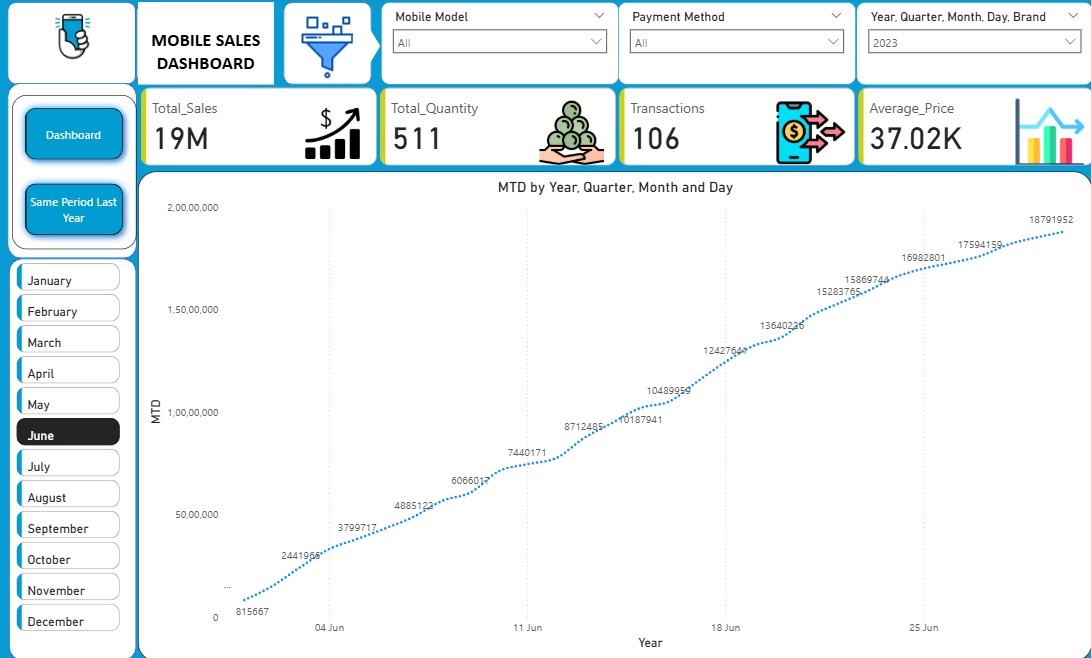

The page's visual inventory and layout, read from the dashboard file:
{"tool":"powerbi","page":{"name":"MTD Report","canvas":[1282,772],"ordinal":1},"visuals":[{"type":"shape","box":[13,6.5,149.6,96],"z":0},{"type":"image","box":[29.3,6.5,117.1,84.6],"z":1000},{"type":"shape","box":[12.1,102,150.4,203.9],"z":2000},{"type":"cardVisual","fields":{"Data":["Sales_Data.Total_Sales","Sales_Data.Total_Quantity","Sales_Data.Transactions","Sales_Data.Average_Price"]},"box":[162.5,102,1119.9,102],"z":3000},{"type":"slicer","fields":{"Values":["Sales_Data.Mobile Model"]},"box":[445.7,6.5,276.5,96],"z":4000},{"type":"slicer","fields":{"Values":["Sales_Data.Payment Method"]},"box":[722.2,6.5,276.5,96],"z":5000},{"type":"slicer","fields":{"Values":["Custom_Calendar.Date.Variation.Date Hierarchy.Year","Custom_Calendar.Date.Variation.Date Hierarchy.Quarter","Custom_Calendar.Date.Variation.Date Hierarchy.Month","Custom_Calendar.Date.Variation.Date Hierarchy.Day","Sales_Data.Brand"]},"box":[998.9,6.9,274.8,96.8],"z":6000},{"type":"shape","box":[333.4,6.5,102.5,96],"z":7000},{"type":"image","box":[333.4,17.9,102.5,84.6],"z":8000},{"type":"shape","box":[413.1,30.9,32.5,53.7],"z":9000},{"type":"shape","box":[162.7,6.5,159.4,96],"z":10000},{"type":"textbox","box":[164.3,6.5,157.8,96],"z":11000},{"type":"lineChart","fields":{"Y":["Sales_Data.MTD"],"Category":["Custom_Calendar.Date.Variation.Date Hierarchy.Year","Custom_Calendar.Date.Variation.Date Hierarchy.Quarter","Custom_Calendar.Date.Variation.Date Hierarchy.Month","Custom_Calendar.Date.Variation.Date Hierarchy.Day"]},"box":[163.6,203.6,1109.1,569.1],"z":12000},{"type":"shape","box":[14,304.6,148.2,467.4],"z":13000},{"type":"advancedSlicerVisual","fields":{"Values":["Custom_Calendar.Date.Variation.Date Hierarchy.Month"]},"box":[17.4,305.2,130.8,450],"z":14000},{"type":"pageNavigator","box":[17.4,115.1,144.8,179.6],"z":14001}]}

Visuals, with their boxes in screenshot pixels (x1, y1, x2, y2), scaled from the page's 1282x772 canvas onto the 1091x658 screenshot:
shape: select_region(11, 6, 138, 87)
image: select_region(25, 6, 125, 78)
shape: select_region(10, 87, 138, 261)
cardVisual - Sales_Data.Total_Sales x Sales_Data.Total_Quantity: select_region(138, 87, 1090, 174)
slicer - Sales_Data.Mobile Model: select_region(379, 6, 615, 87)
slicer - Sales_Data.Payment Method: select_region(615, 6, 850, 87)
slicer - Custom_Calendar.Date.Variation.Date Hierarchy.Year x Custom_Calendar.Date.Variation.Date Hierarchy.Quarter: select_region(850, 6, 1084, 88)
shape: select_region(284, 6, 371, 87)
image: select_region(284, 15, 371, 87)
shape: select_region(352, 26, 379, 72)
shape: select_region(138, 6, 274, 87)
textbox: select_region(140, 6, 274, 87)
lineChart - Sales_Data.MTD x Custom_Calendar.Date.Variation.Date Hierarchy.Year: select_region(139, 174, 1083, 657)
shape: select_region(12, 260, 138, 657)
advancedSlicerVisual - Custom_Calendar.Date.Variation.Date Hierarchy.Month: select_region(15, 260, 126, 644)
pageNavigator: select_region(15, 98, 138, 251)
